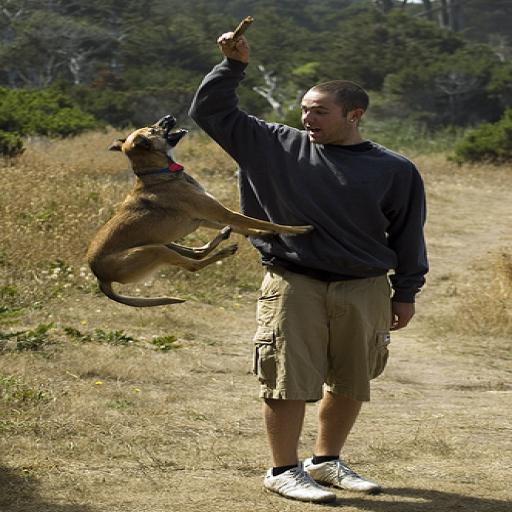animal: (85, 114, 311, 308)
person: (189, 31, 432, 501)
